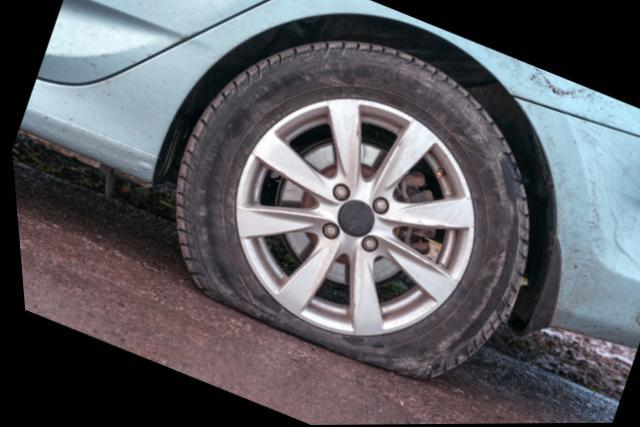tire flat: (171, 38, 527, 379)
